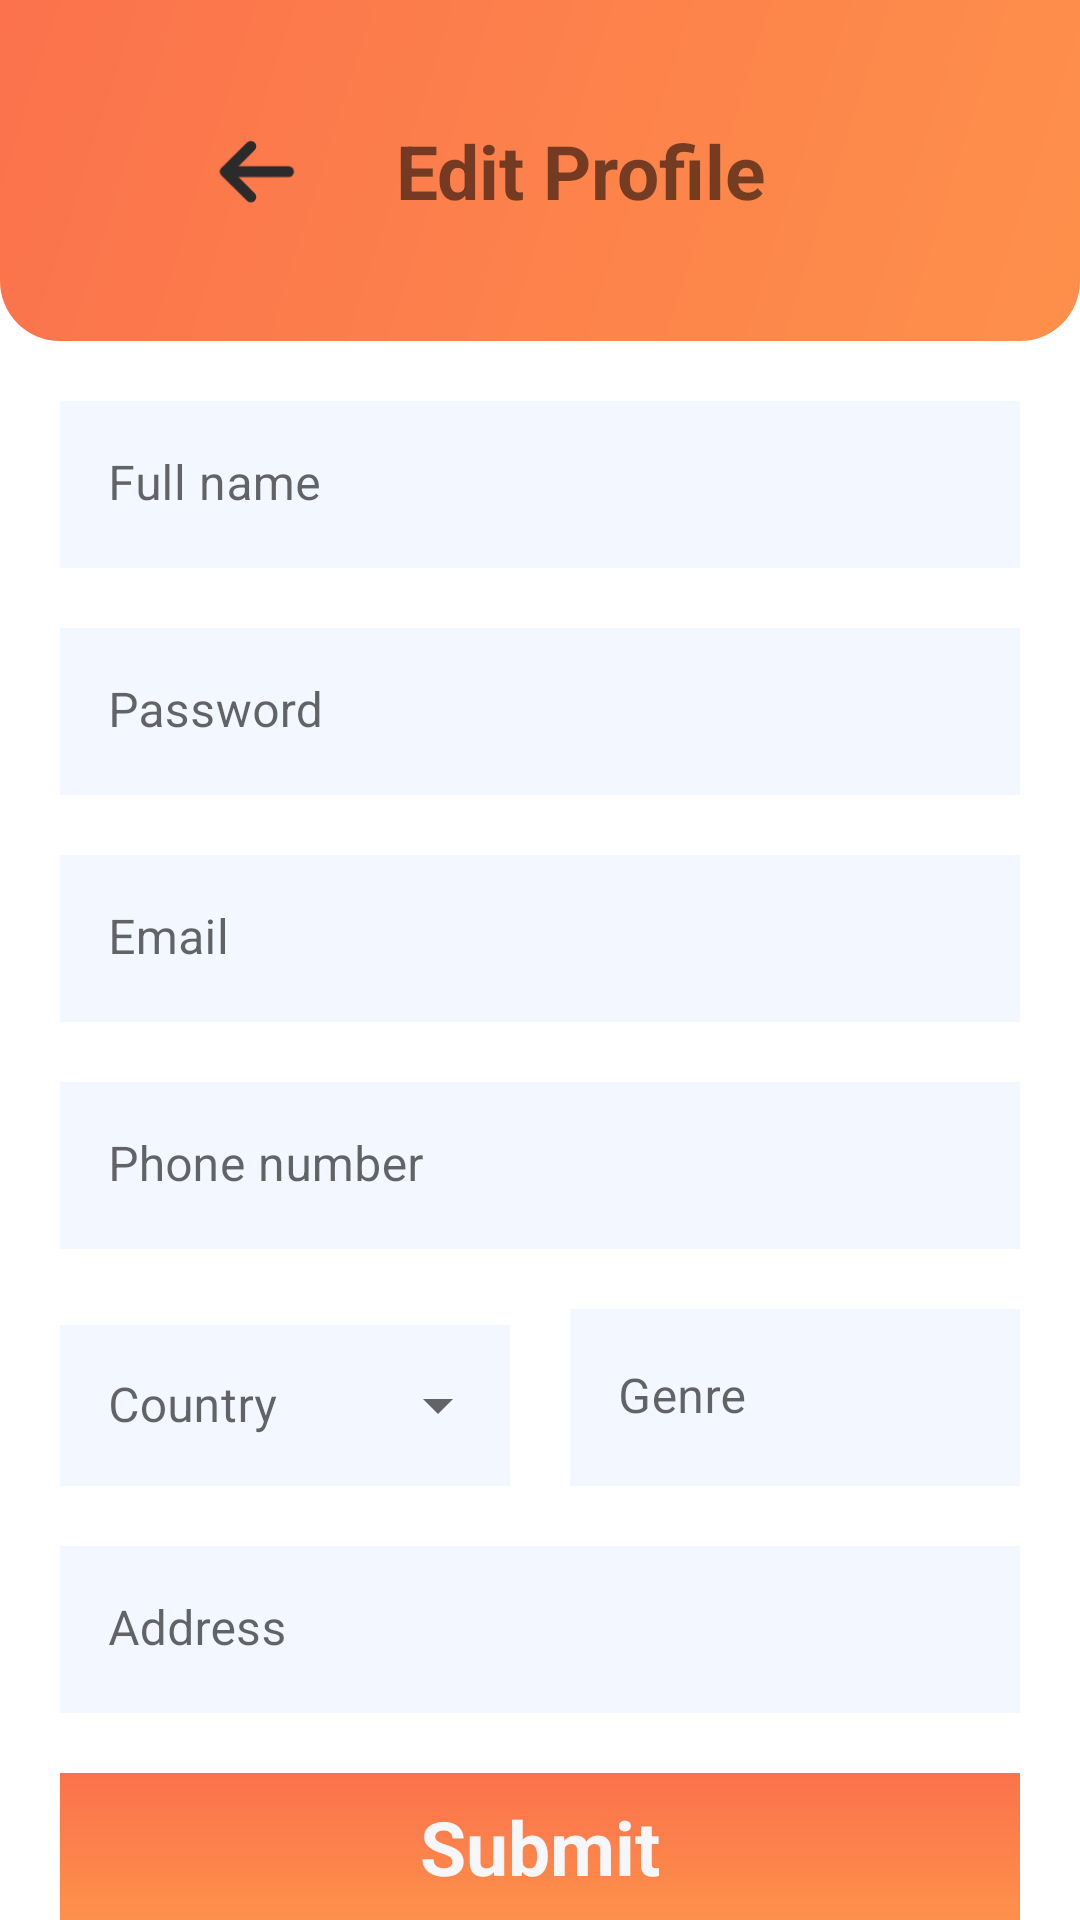

Where to tap for icons on this 1080px×1920px app screen, as [x,y]:
return: [257,171]
